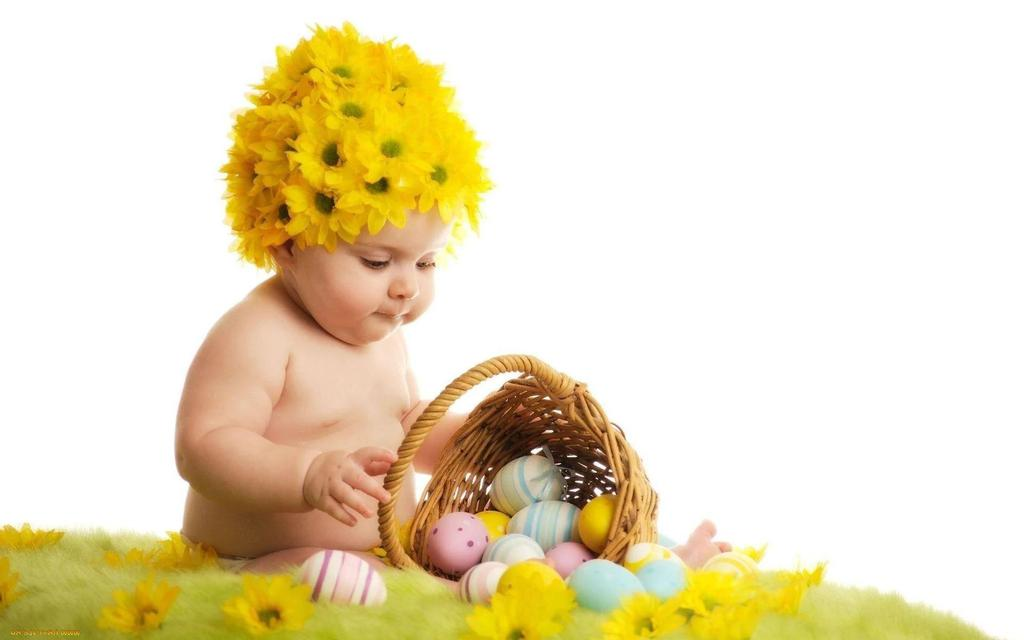child: (142, 19, 533, 627)
